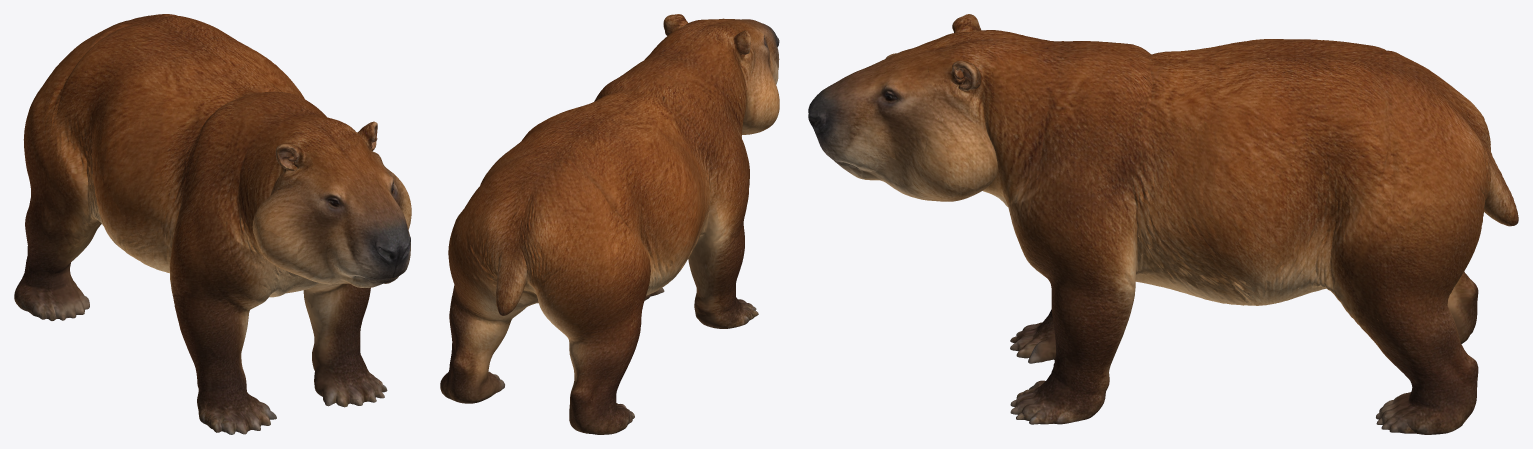
3 views of the same model, side by side, from view 1: azimuth 30°, elevation 25°; view 2: azimuth 150°, elevation 25°; view 3: azimuth 270°, elevation 25° (orthographic). The views are drawn at different scales.
Parts seen in each view (by area): view 1: Authored orientation; view 2: Authored orientation; view 3: Authored orientation.
Part boxes in pixels (box(x1,y1,x2,y2)): Authored orientation: box(14, 14, 411, 434); Authored orientation: box(440, 14, 779, 434); Authored orientation: box(808, 14, 1518, 434).
Size of the model in its own units: 0.9153 by 1.22 by 2.32.
1 material, 1 textured.
